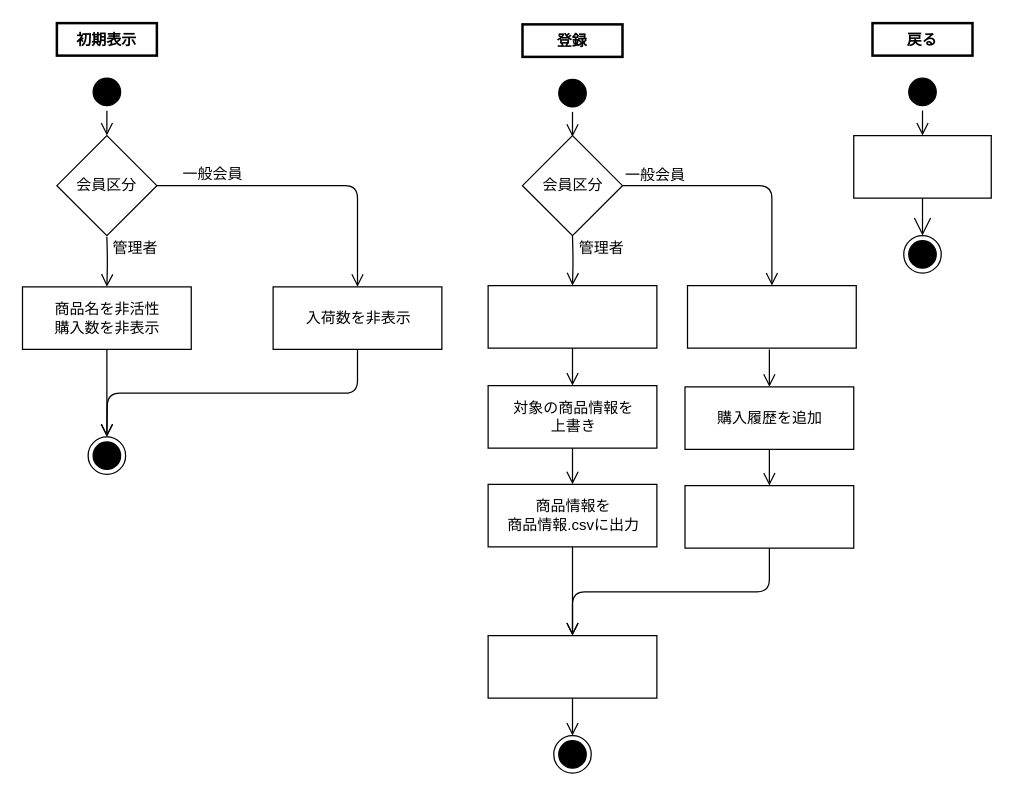
The diagram is 1013 pixels wide and 795 high, and some of its shapes have lost their labels. Here are the shapes that lost their labels. From the top down, the centre of each, then its label:
At [921,166]: "商品検索画面へ 遷移".
At [572,316]: "商品情報.csvから 商品情報を取得".
At [771,316]: "購入履歴.csvから 購入履歴を取得".
At [769,516]: "購入履歴を 購入履歴.csvに出力".
At [572,666]: "商品検索画面へ遷移".
